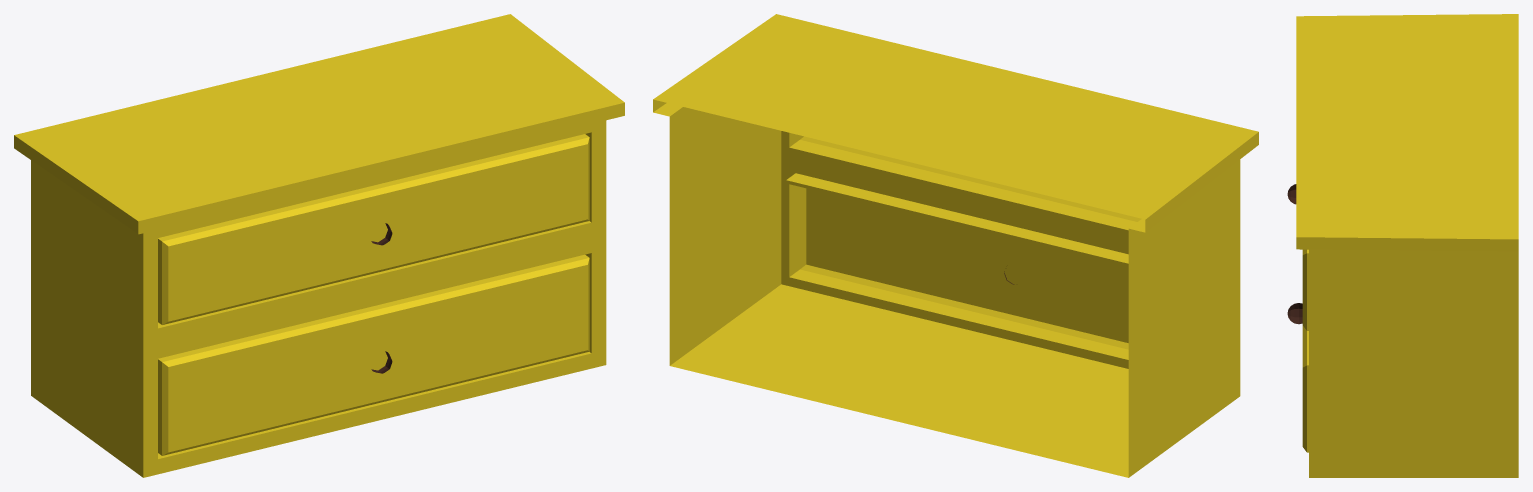
Rendered from Dresser.fbx.
The picture shows the model from 3 angles, left to right: view 1: azimuth 30°, elevation 25°; view 2: azimuth 150°, elevation 25°; view 3: azimuth 270°, elevation 25°; orthographic projection. The views are drawn at different scales.
Visible parts, largest first — view 1: Dresser; view 2: Dresser; view 3: Dresser.
Boxes of the visible parts, box(x1,y1,x2,y2) form: Dresser: box(14, 14, 624, 477); Dresser: box(653, 14, 1258, 477); Dresser: box(1287, 14, 1518, 477).
Size of the model in its own units: 126 by 64.05 by 54.47.
